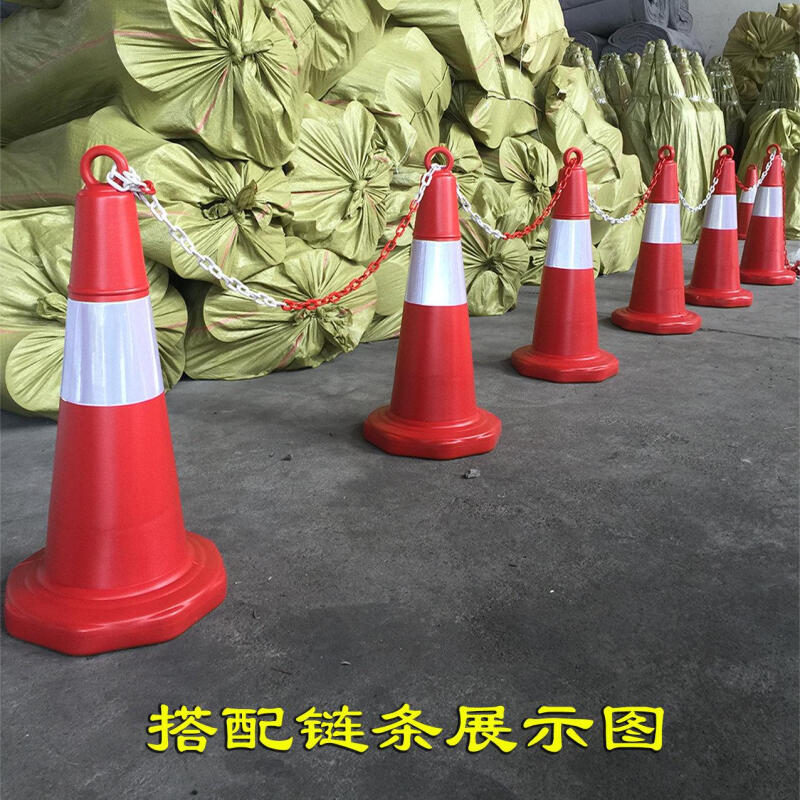traffic_cone: (9, 137, 256, 660), (343, 124, 506, 456), (520, 138, 636, 383), (624, 141, 708, 339), (689, 128, 754, 318), (750, 135, 800, 297)
